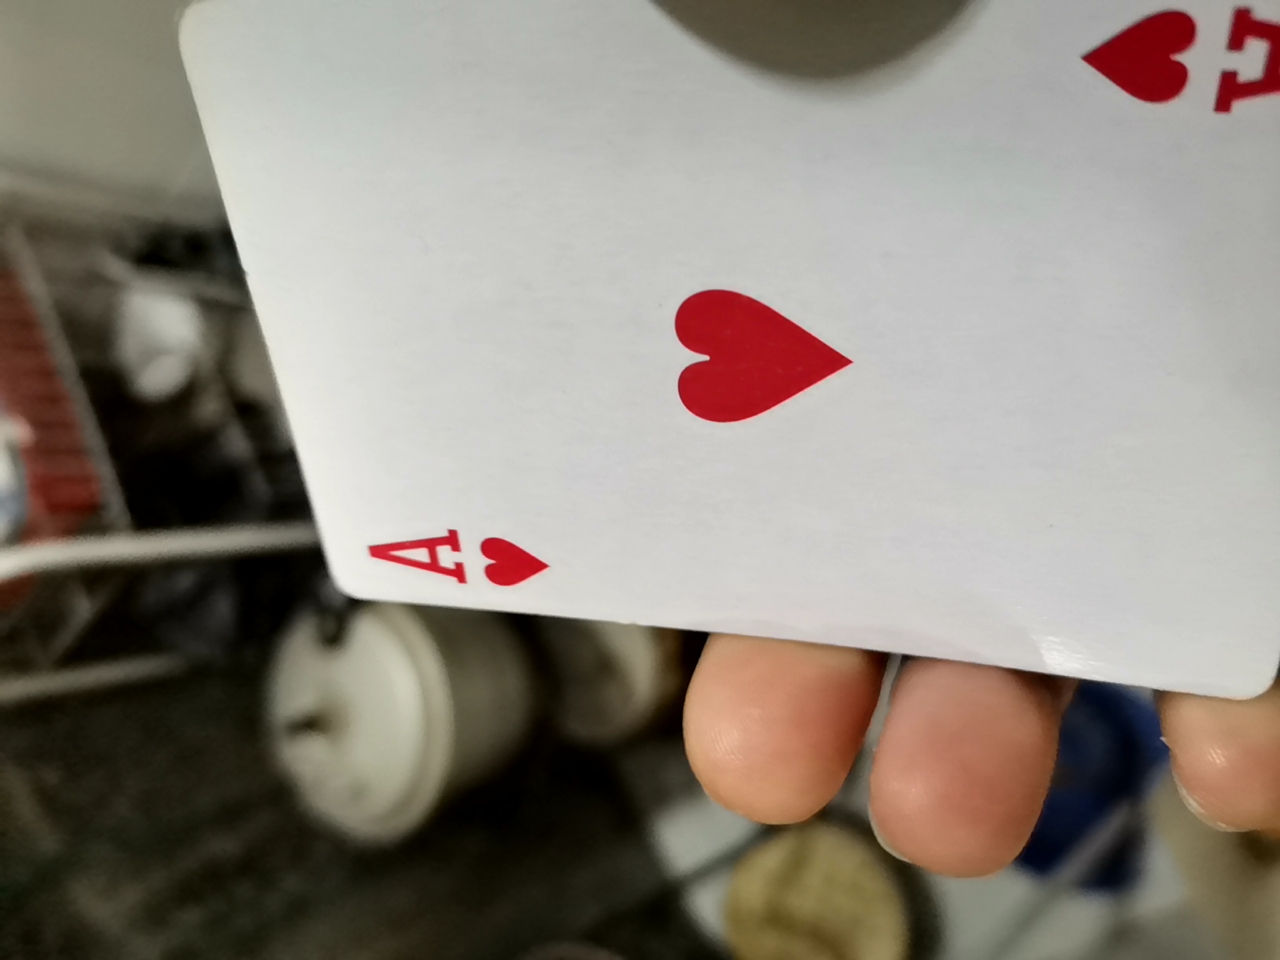hx a: (225, 10, 1268, 735)
